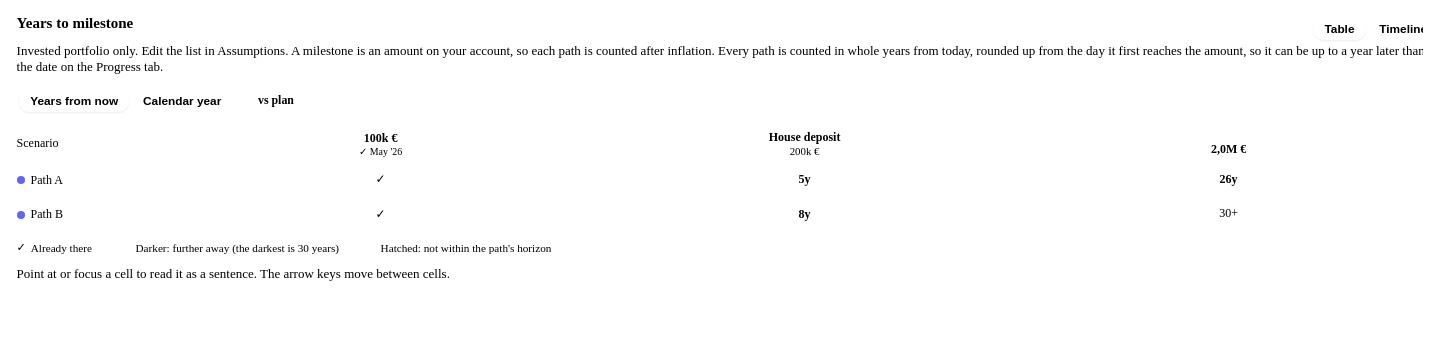
Scenario: the timeline › writes the sentence in the same live region when a dot is pointed at, focused or pressed
Click the radio button labelled "Timeline".
click(1400, 29)  # box [1368, 17, 1431, 40]
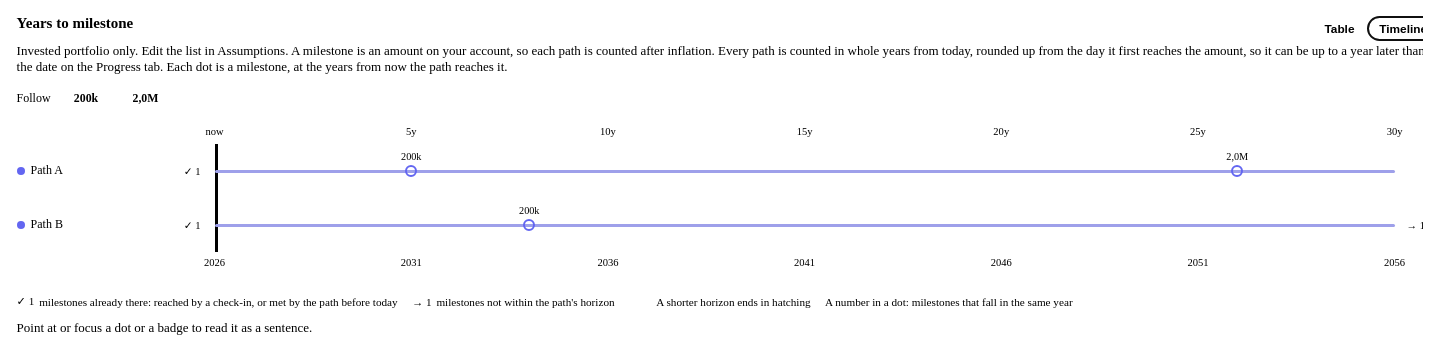
Hover over the button named "Path A reaches House deposit".
mouse_move(411, 171)  # box [405, 165, 417, 177]
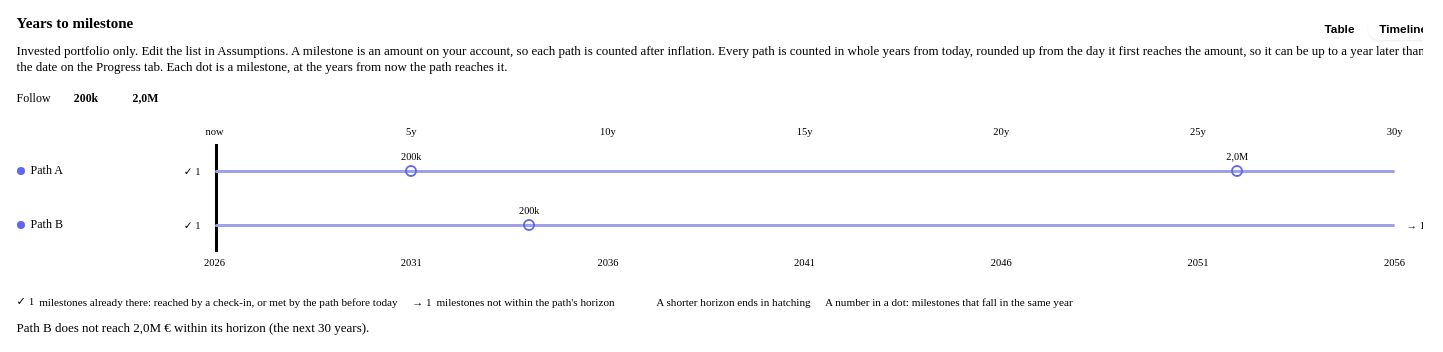
Expected: the text "Path B does not reach 2,0M € within its horizon (the next 30 years)." is shown, [17, 320, 369, 335]
